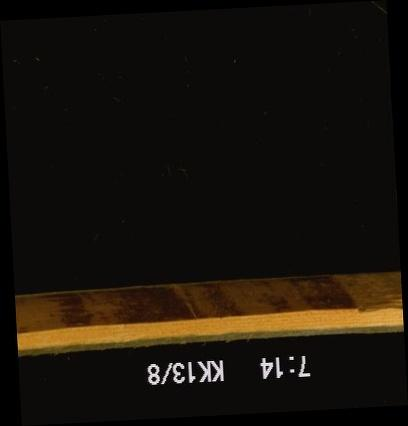wave: (15, 285, 401, 324)
